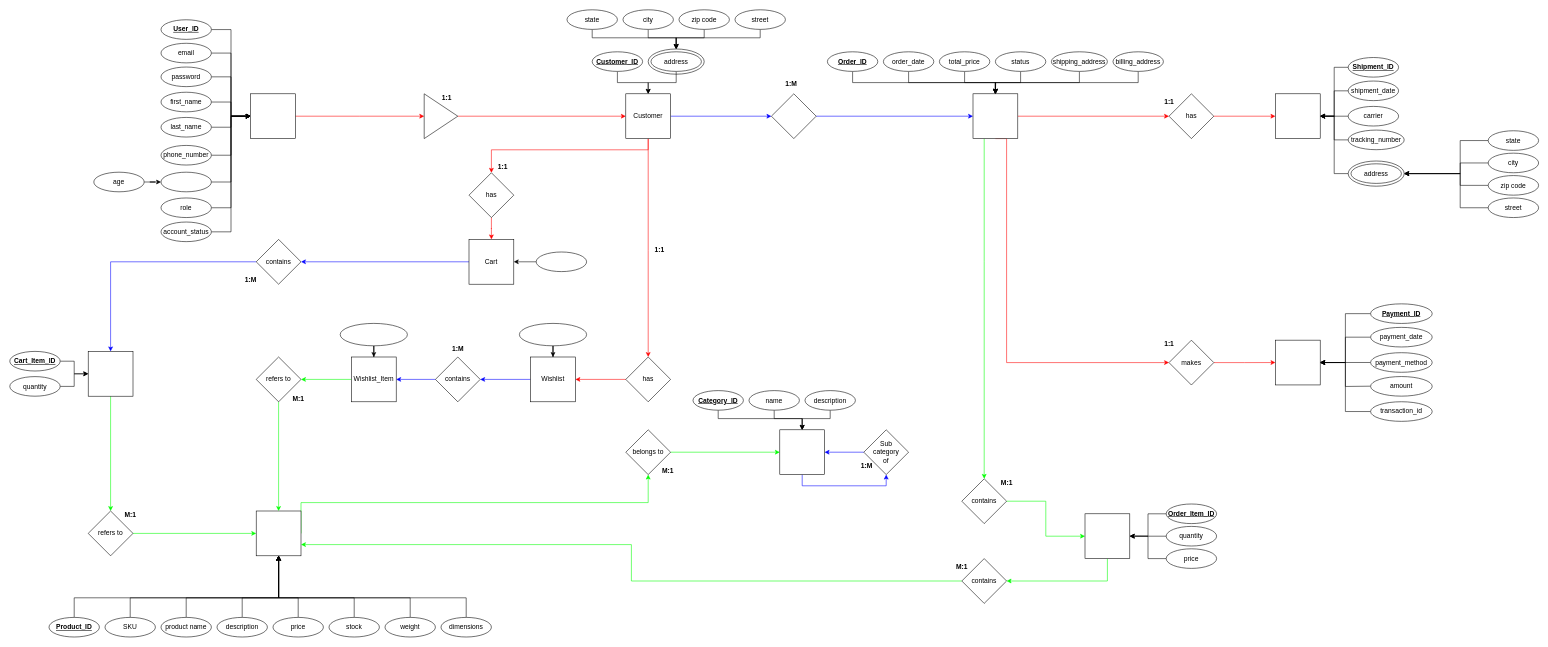
This 1548x647 diagram has some shape labels left out. The shapes that lost their labels are listed below. From the top down, each one's centre as x and y in pixels, then its label:
At (x=272, y=116): "User".
At (x=441, y=116): "ISA".
At (x=793, y=116): "places".
At (x=995, y=116): "Order".
At (x=1297, y=116): "Shipment".
At (x=185, y=182): "birthday".
At (x=561, y=261): "Cart_ID".
At (x=373, y=334): "Wishlist_Item_ID".
At (x=553, y=334): "Wishlist_ID".
At (x=110, y=373): "Cart_Item".
At (x=1297, y=362): "Payment".
At (x=802, y=452): "Category".
At (x=278, y=533): "Product".
At (x=1107, y=536): "Order_Item".
